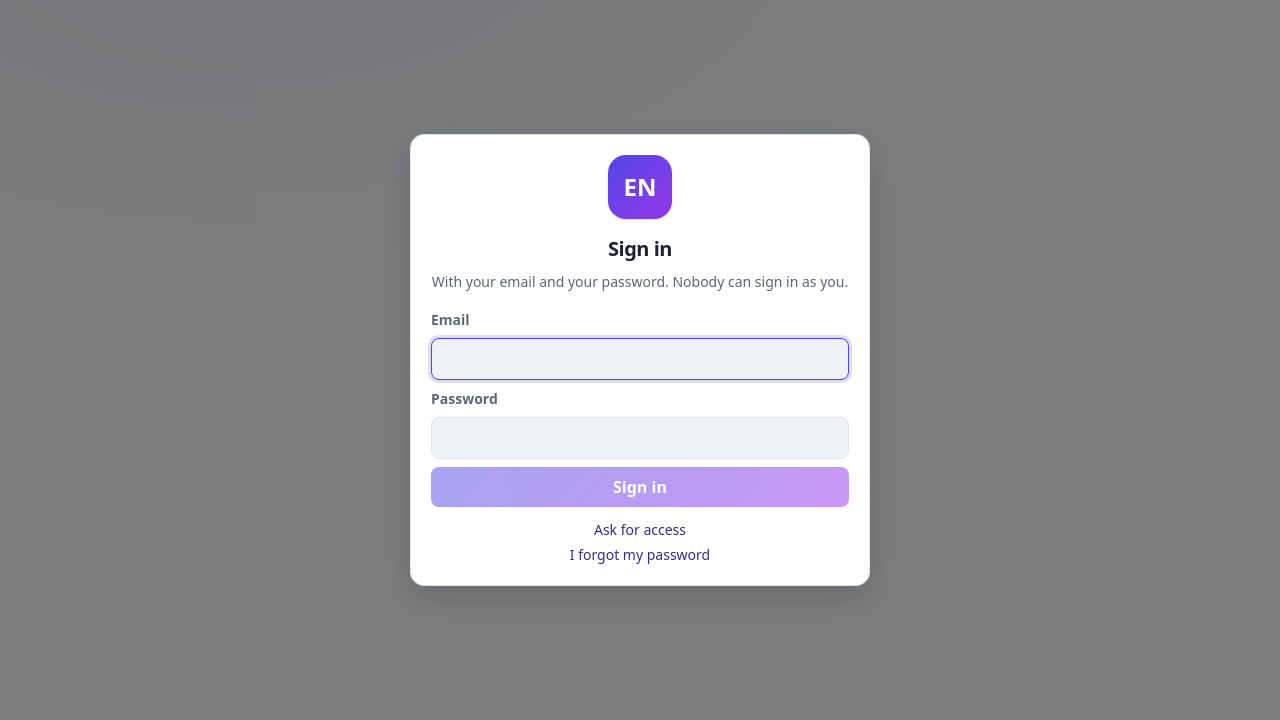
ProfileGate · entrar (V3.82) › una cuenta sin activar manda al enlace del correo, no a «algo falló»
Type "ana@example.com" into the field labelled "Email" at (640, 359), box [431,338,849,380]
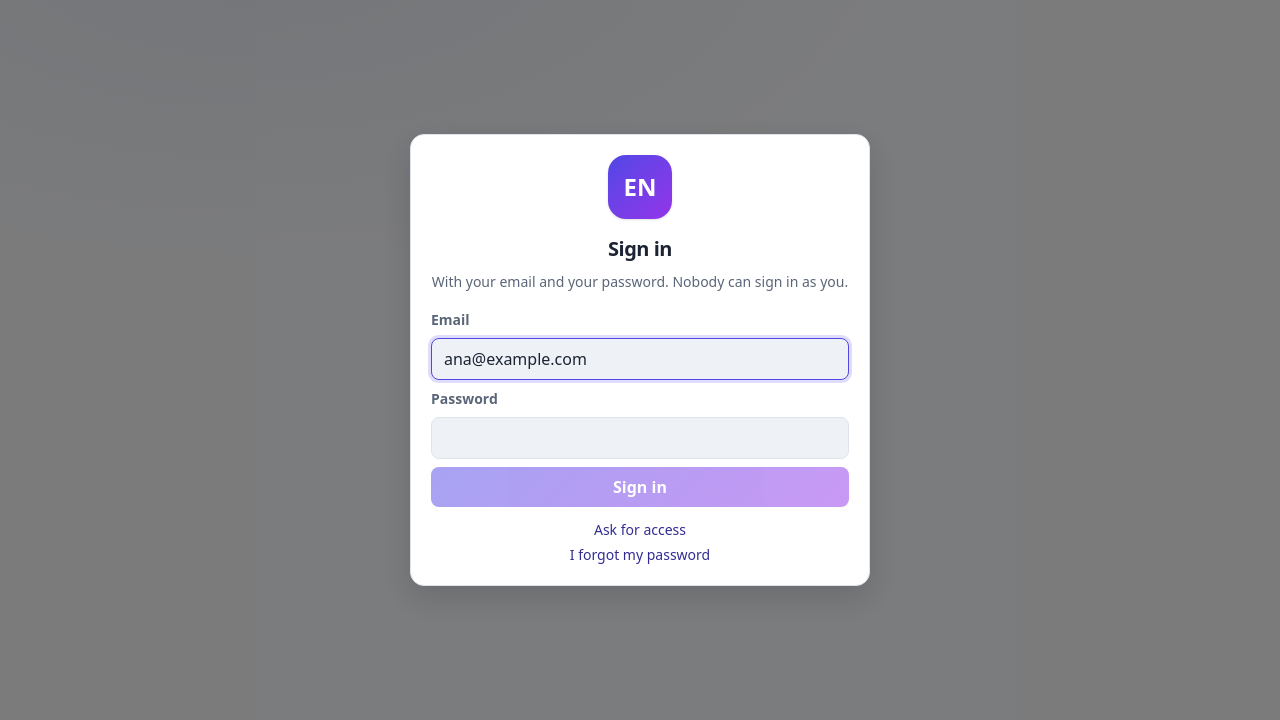
Type "caballo-bateria" into the password field labelled "Password" at (640, 438), box [431,417,849,459]
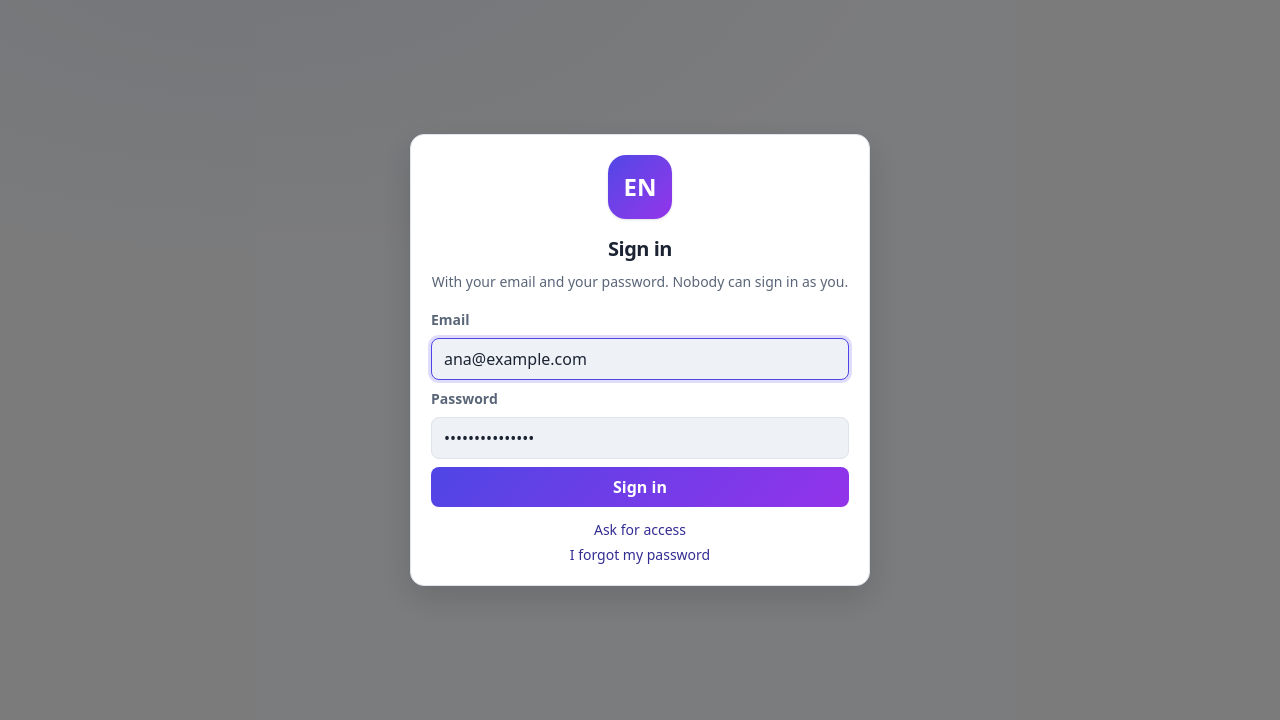
Click the button "Sign in" at (640, 487), box [431,467,849,507]
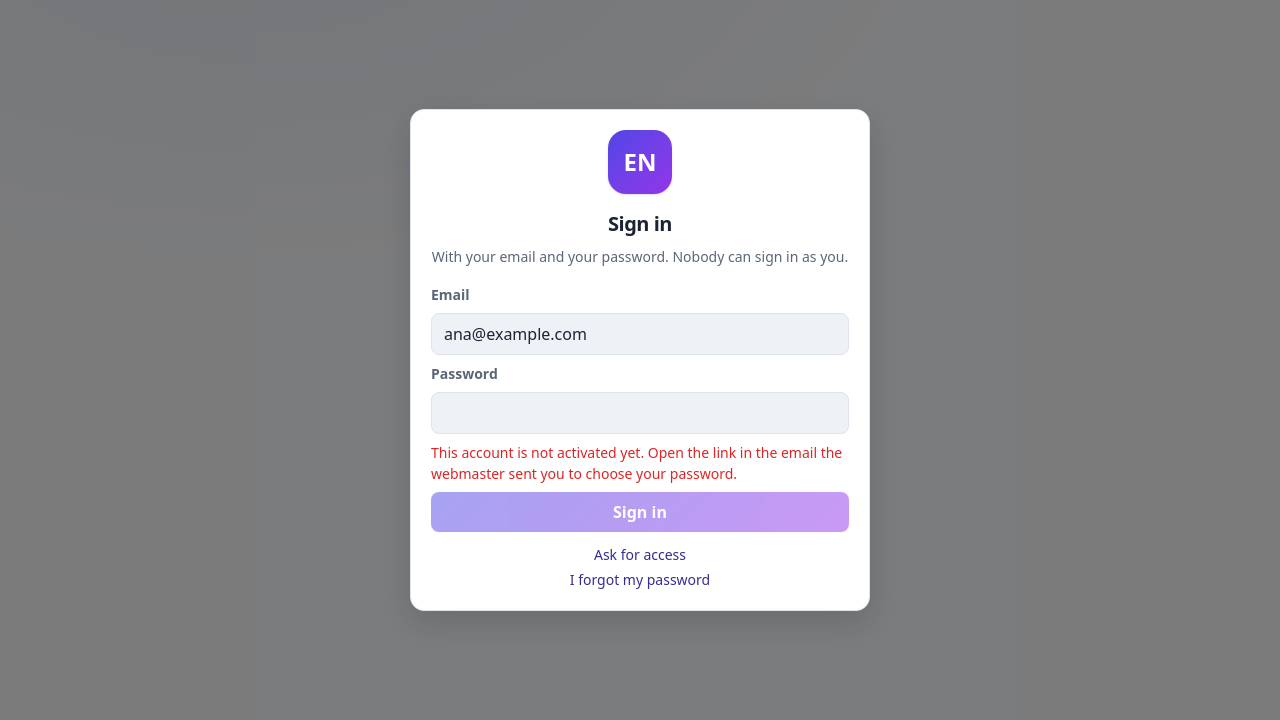
Expected: the text "not activated yet" is shown, [431,443,842,483]
